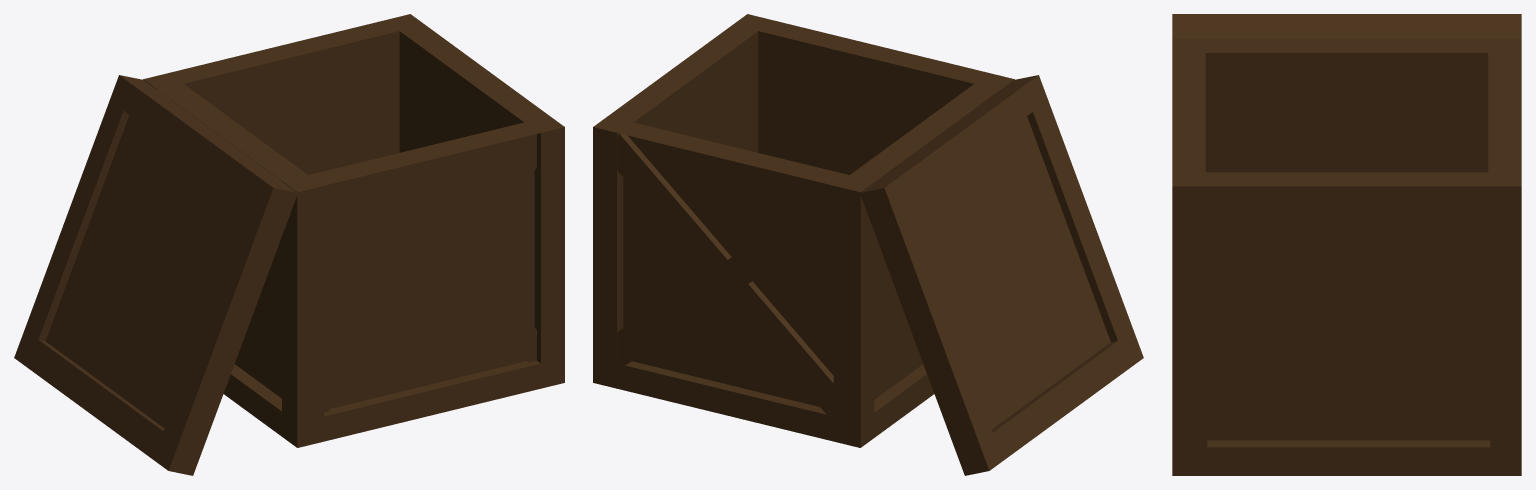
The model's file is Caixa2.fbx.
3 views of the same model, side by side, from view 1: azimuth 30°, elevation 25°; view 2: azimuth 150°, elevation 25°; view 3: azimuth 270°, elevation 25° (orthographic). The views are drawn at different scales.
Visible parts, largest first — view 1: polySurface2; view 2: polySurface2; view 3: polySurface2.
Part boxes in pixels (<box>): polySurface2: <box>14,14,564,475</box>; polySurface2: <box>593,14,1143,475</box>; polySurface2: <box>1172,14,1521,475</box>.
Bounding box in the file's own units: 7.03 × 4.55 × 4.74.
